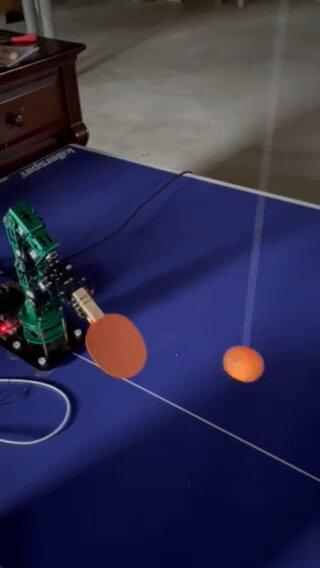oball: (223, 345, 265, 387)
